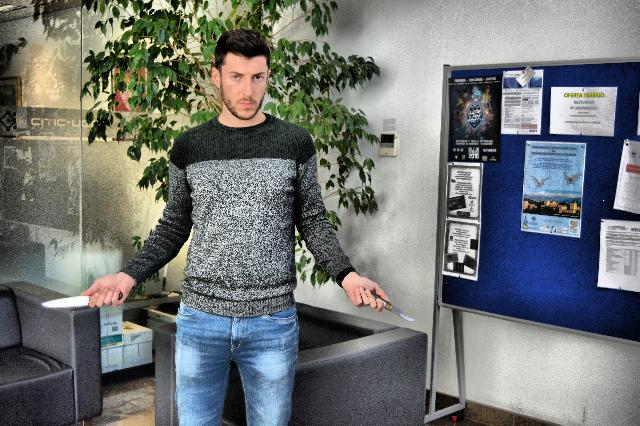knife: (38, 290, 124, 312), (368, 290, 418, 324)
